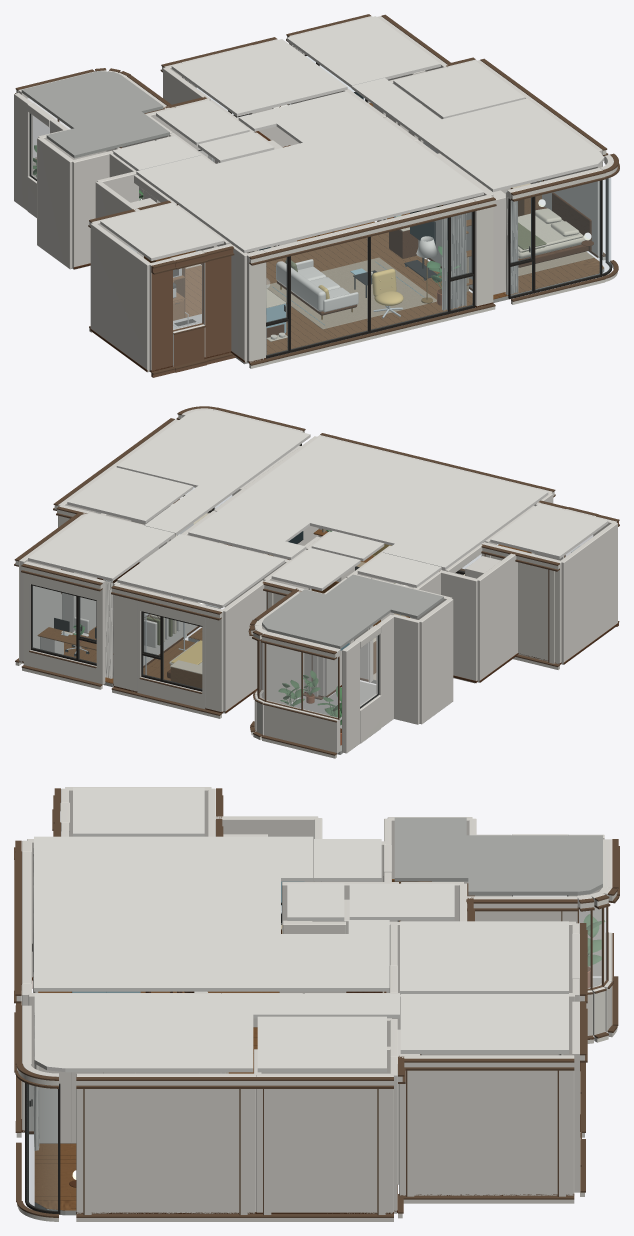
File: home.glb
3 views of the same model, one above another, from view 1: azimuth 30°, elevation 25°; view 2: azimuth 150°, elevation 25°; view 3: azimuth 270°, elevation 25° (orthographic). The views are drawn at different scales.
Parts seen in each view (by area): view 1: living | ceiling, master | ceiling, dining | ceiling, garden | ceiling, guest | ceiling, 客厅落地窗 · 中央整幅固定玻璃.001, 客厅落地窗 · 中央整幅固定玻璃, kitchen | wall | wall-48, 主卧南落地窗 · 中央整幅固定玻璃, study | ceiling, living | finish, bath | ceiling (+50 smaller); view 2: living | ceiling, master | ceiling, dining | ceiling, garden | ceiling, guest | ceiling, kitchen | wall | wall-48, study | ceiling, garden | window | wall-22, kitchen | wall | wall-58, bath | ceiling, craft | ceiling, guest | wall | wall-64 (+39 smaller); view 3: living | ceiling, master | ceiling, 暖白外墙面 | wall-0, 暖白外墙面 | wall-17, dining | ceiling, 暖白外墙面 | wall-6, garden | ceiling, guest | ceiling, study | ceiling, bath | ceiling, craft | ceiling, kitchen | ceiling (+38 smaller).
Part boxes in pixels (<box>): living | ceiling: <box>242,122,483,230</box>; master | ceiling: <box>351,78,604,192</box>; dining | ceiling: <box>136,155,337,253</box>; garden | ceiling: <box>21,71,169,158</box>; guest | ceiling: <box>171,39,347,116</box>; 客厅落地窗 · 中央整幅固定玻璃.001: <box>371,218,447,329</box>; 客厅落地窗 · 中央整幅固定玻璃: <box>291,238,367,349</box>; kitchen | wall | wall-48: <box>90,223,150,372</box>; 主卧南落地窗 · 中央整幅固定玻璃: <box>535,181,600,289</box>; study | ceiling: <box>286,16,440,87</box>; living | finish: <box>266,232,472,337</box>; bath | ceiling: <box>393,60,525,118</box>; living | ceiling: <box>229,436,459,539</box>; master | ceiling: <box>116,410,310,535</box>; dining | ceiling: <box>368,470,548,569</box>; garden | ceiling: <box>262,574,443,648</box>; guest | ceiling: <box>117,534,284,607</box>; kitchen | wall | wall-48: <box>560,522,617,664</box>; study | ceiling: <box>28,512,174,581</box>; garden | window | wall-22: <box>265,644,339,719</box>; kitchen | wall | wall-58: <box>477,551,517,682</box>; bath | ceiling: <box>67,467,193,523</box>; craft | ceiling: <box>188,503,309,559</box>; guest | wall | wall-64: <box>222,580,265,713</box>; living | ceiling: <box>34,895,280,991</box>; master | ceiling: <box>34,993,399,1072</box>; 暖白外墙面 | wall-0: <box>77,1089,255,1213</box>; 暖白外墙面 | wall-17: <box>399,1070,573,1195</box>; dining | ceiling: <box>34,836,313,895</box>; 暖白外墙面 | wall-6: <box>256,1089,393,1213</box>; garden | ceiling: <box>394,817,602,895</box>; guest | ceiling: <box>400,921,568,994</box>; study | ceiling: <box>400,994,568,1053</box>; bath | ceiling: <box>257,1016,386,1072</box>; craft | ceiling: <box>281,920,389,991</box>; kitchen | ceiling: <box>73,787,204,836</box>.
Size of the model in its own units: 13.61 by 3.18 by 11.88.
Materials: 177 (11 with a texture image).
